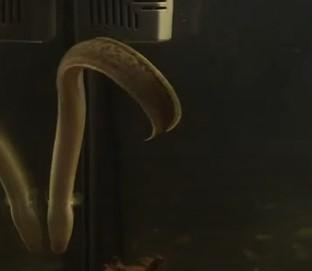Freshwater Eel: (48, 37, 181, 252), (0, 140, 45, 259)
